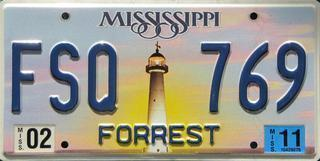placa de veiculo: (5, 1, 313, 159)
